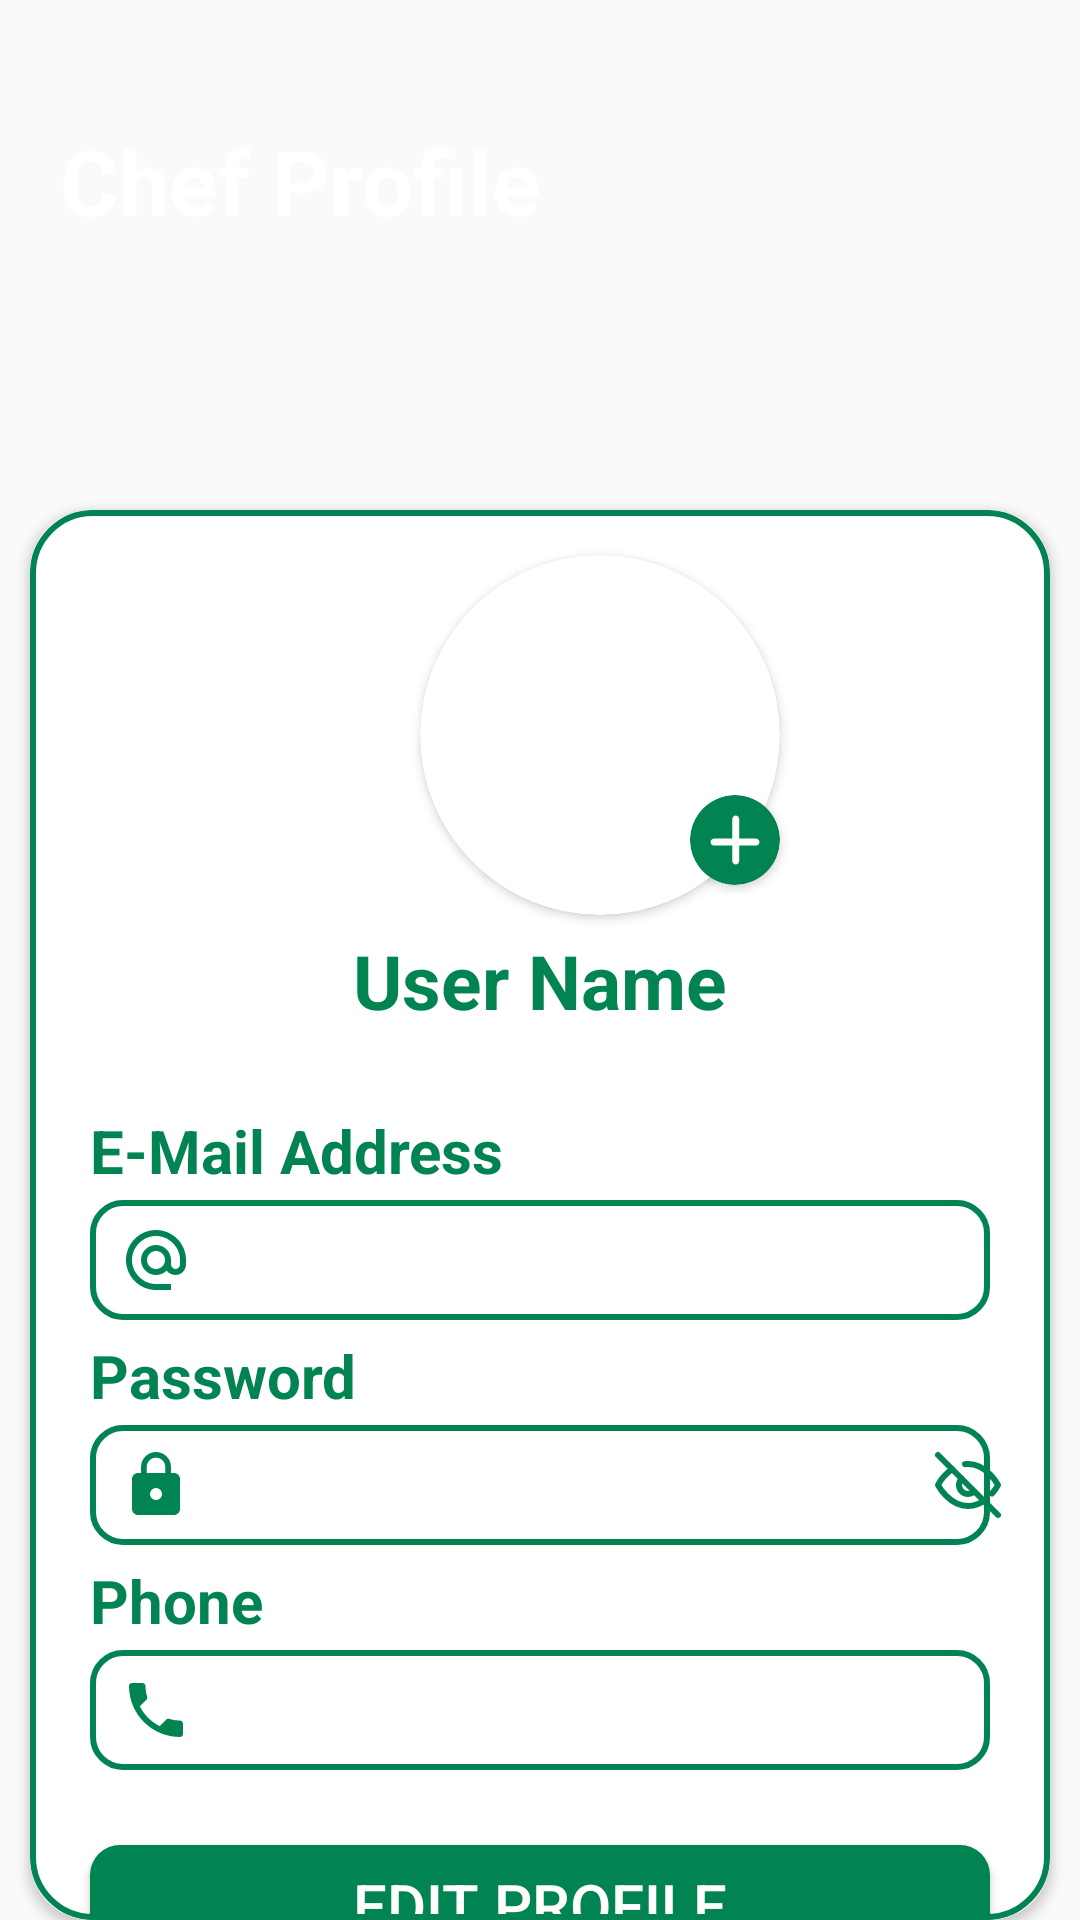

Screen size 1080px x 1920px. Icon name, then its center in pixels as (x=x, y=y):
hide: (x=968, y=1485)
plus: (x=735, y=840)
